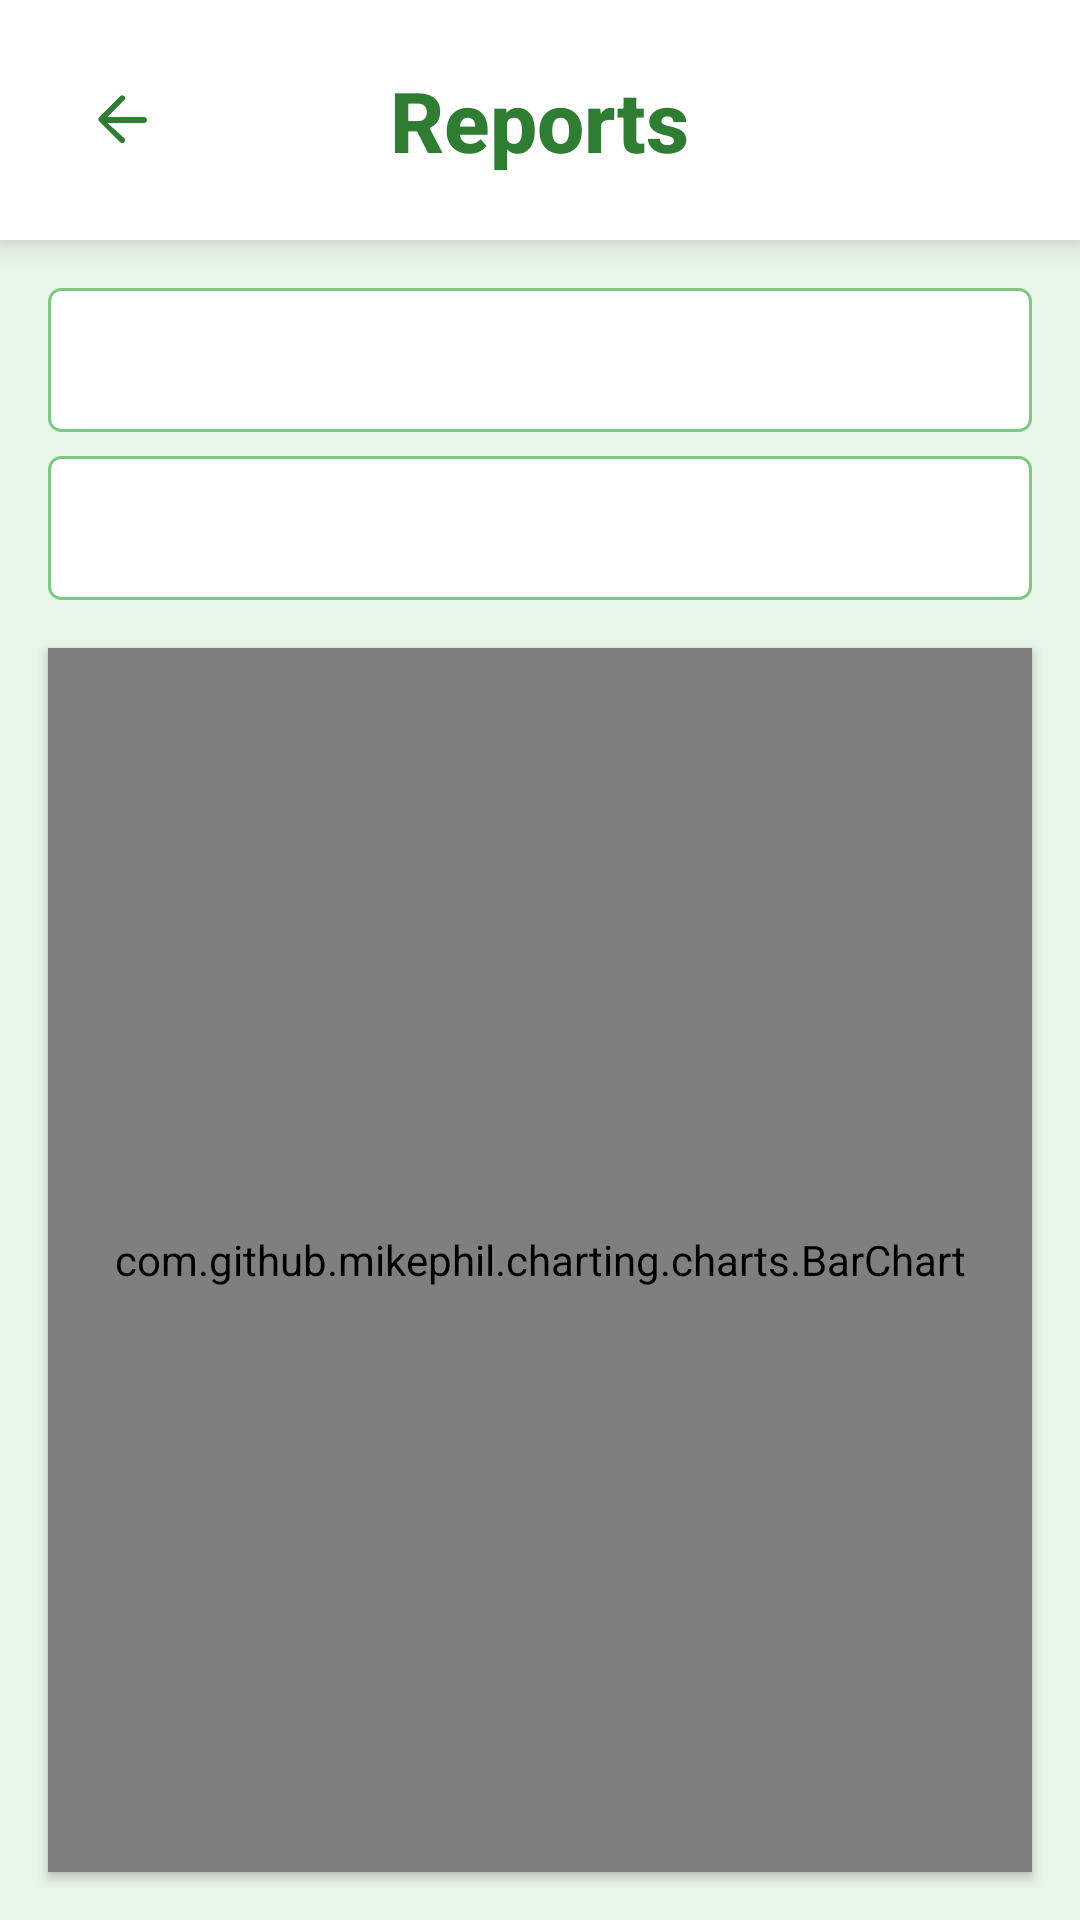

Where icons sit on this 1080px x 1920px app screen, as (x1, y1, x2, y2):
arrow back: (98, 95, 147, 143)
